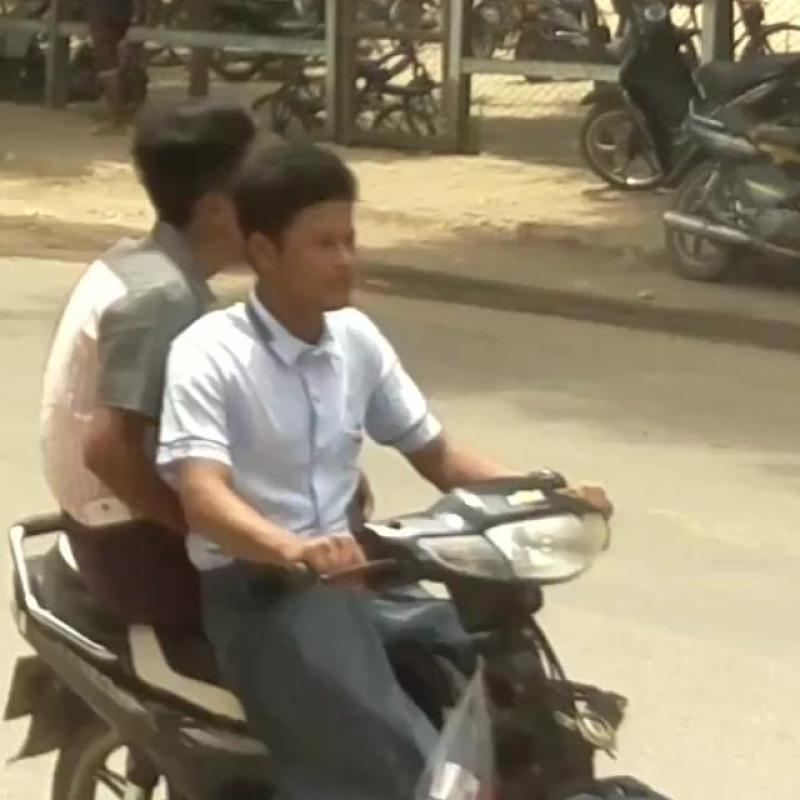nohelmet: (222, 130, 404, 299)
